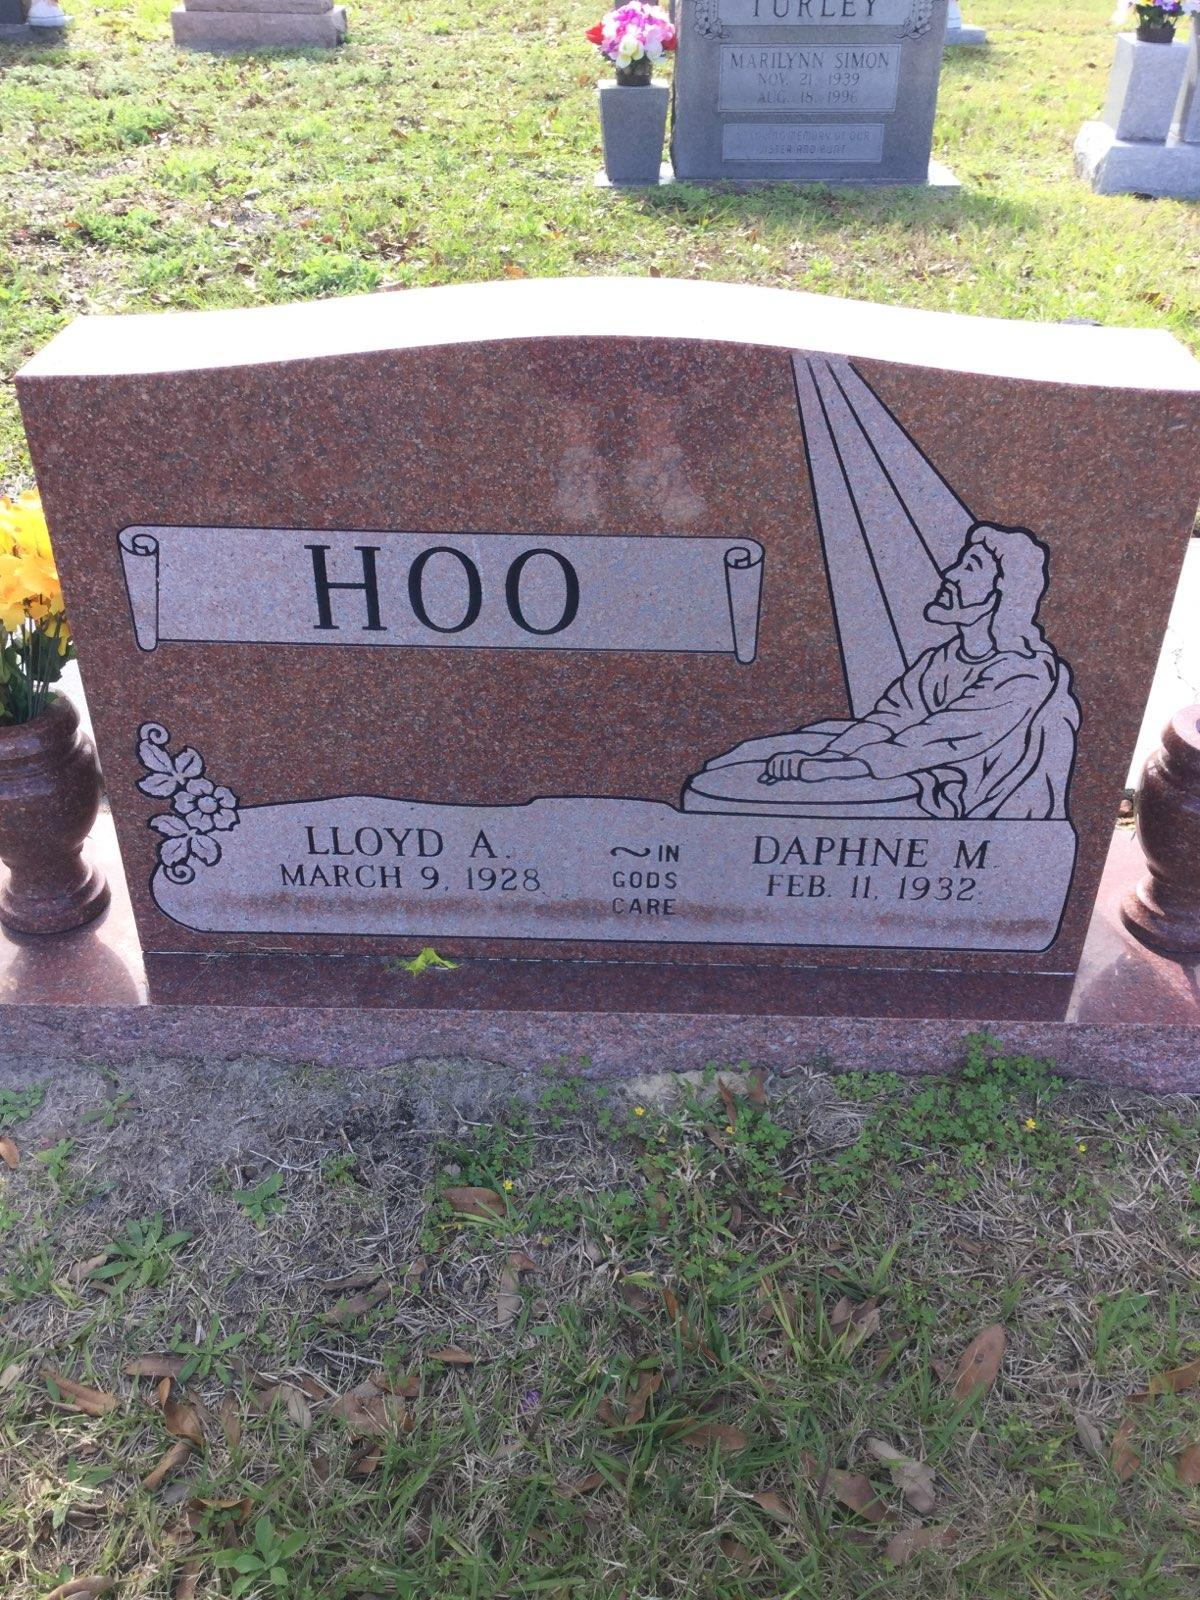upright: (0, 276, 1200, 1101)
